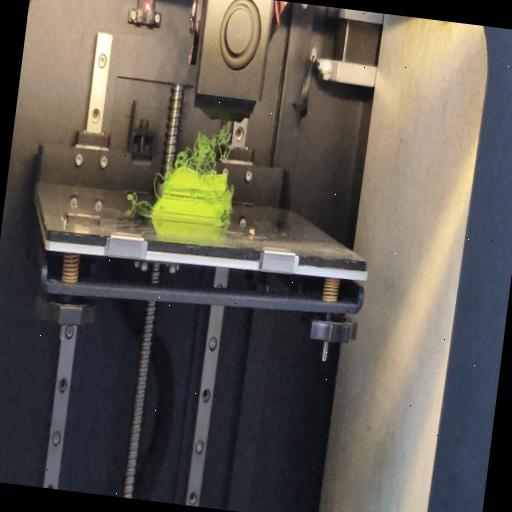spaghetti: (174, 116, 238, 178), (126, 191, 152, 208), (152, 173, 164, 201), (220, 214, 232, 228)
